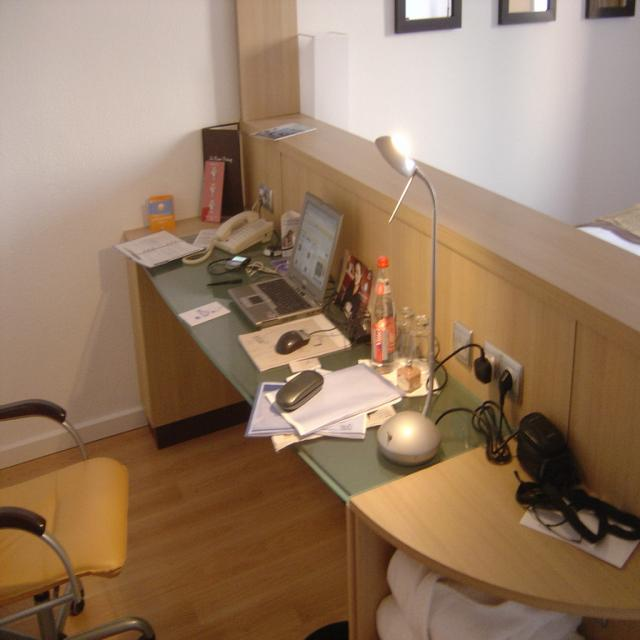chair: (0, 398, 154, 640)
desk: (142, 227, 614, 619)
laptop: (226, 188, 350, 332)
mouse: (377, 411, 441, 465), (275, 369, 324, 411), (274, 330, 308, 355)
